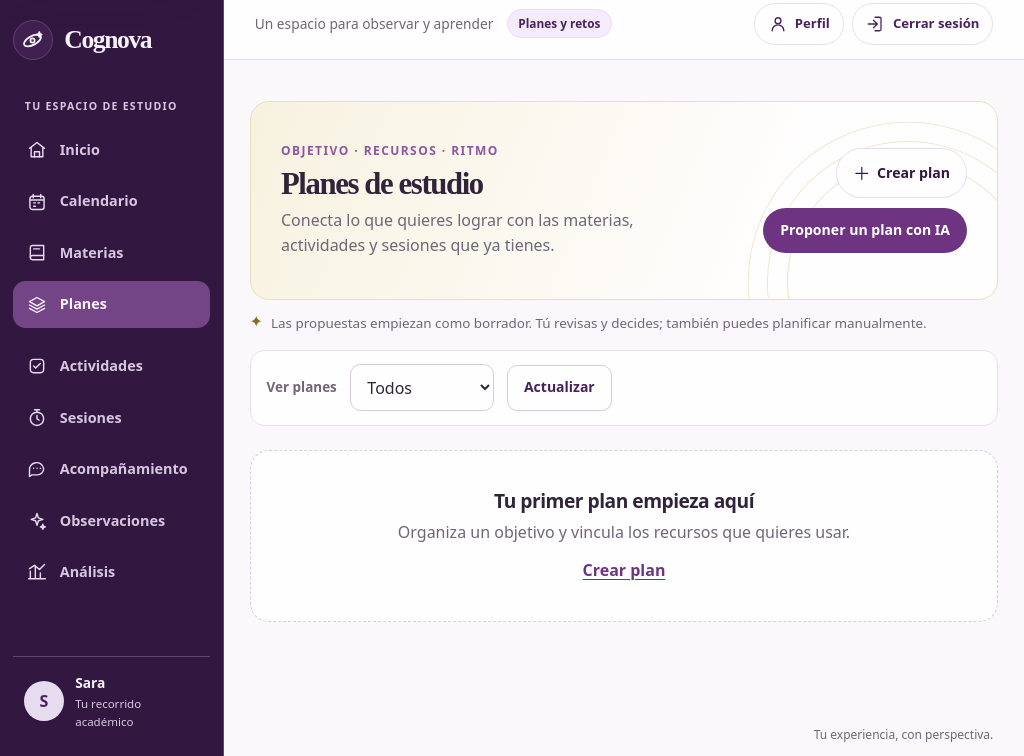
Test: study plans › creates a manual plan and opens its direct detail route
The width and height of the screenshot is (1024, 756).
Expected: the heading "Tu primer plan empieza aquí" is shown, [494,487,754,514]
Click the link to "/app/study-plans/new" at [902, 173], box [836,148,967,198]
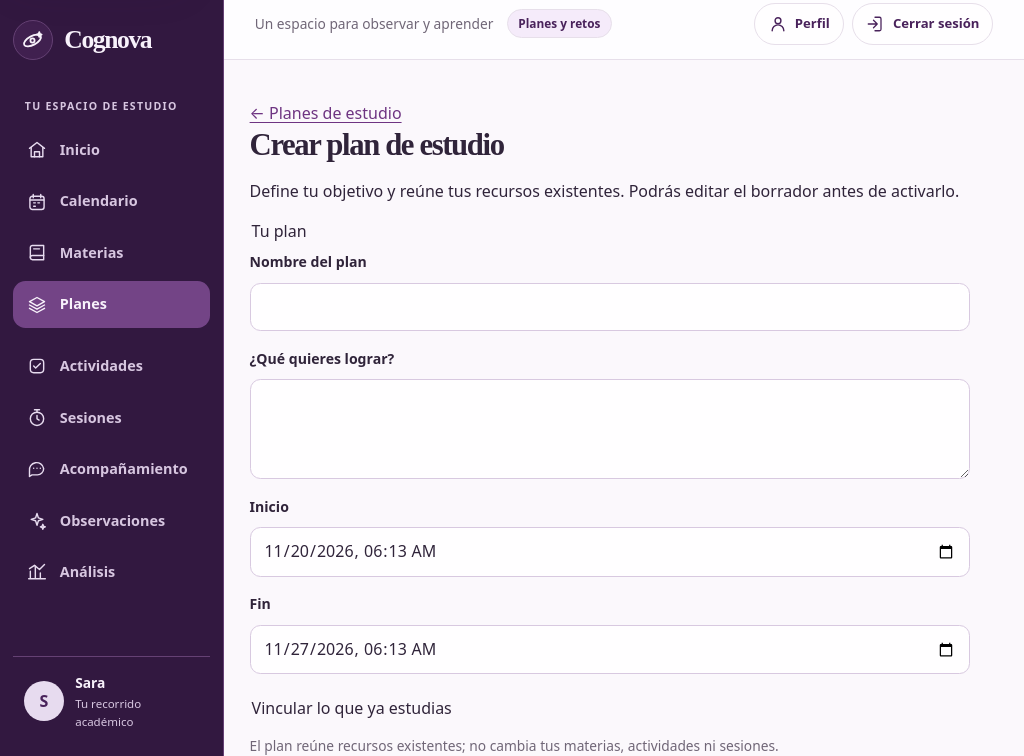
Result: the heading "Crear plan de estudio" is shown at [250,128,504,162]
Type "Plan de lectura" into the field labelled "Nombre del plan" at [610, 307], box [250,283,970,331]
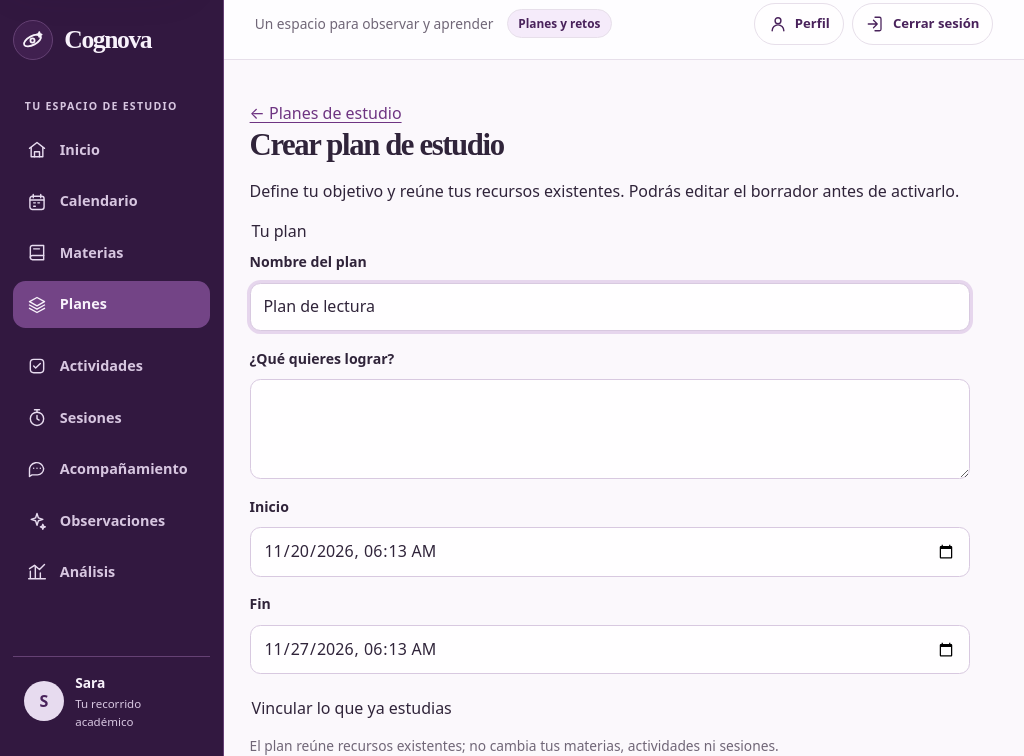
Type "Leer tres capítulos" into the text box labelled "¿Qué quieres lograr?" at [610, 429], box [250,379,970,479]
(page scrolled)
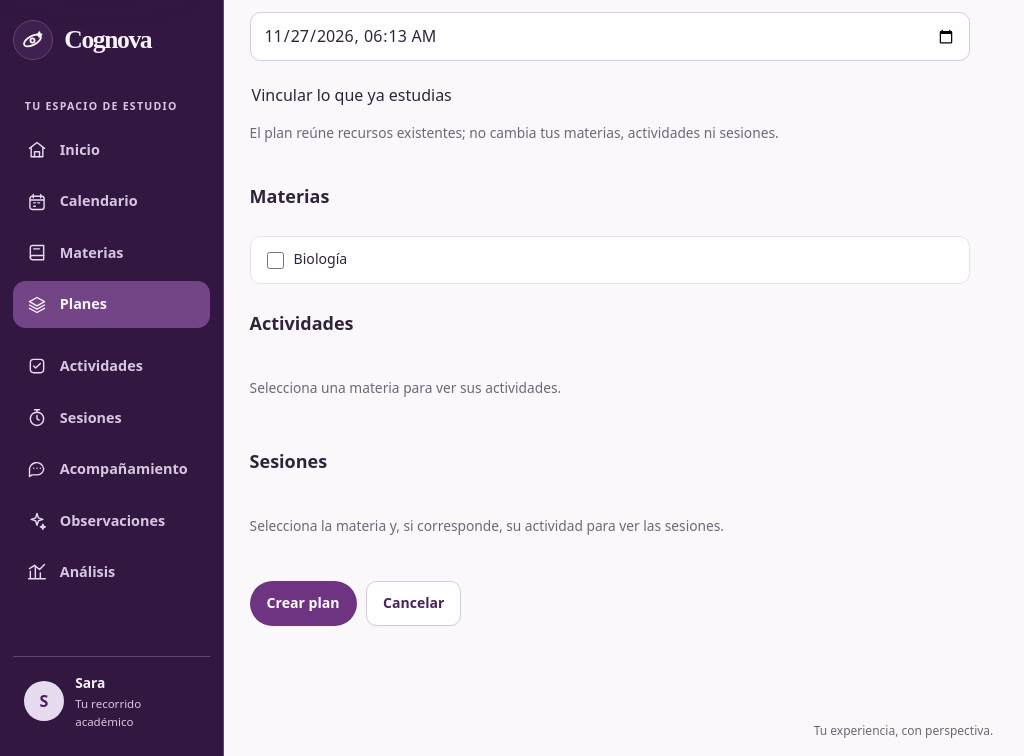
Click the button "Crear plan" at [303, 603], box [250,581,356,626]
(page scrolled)
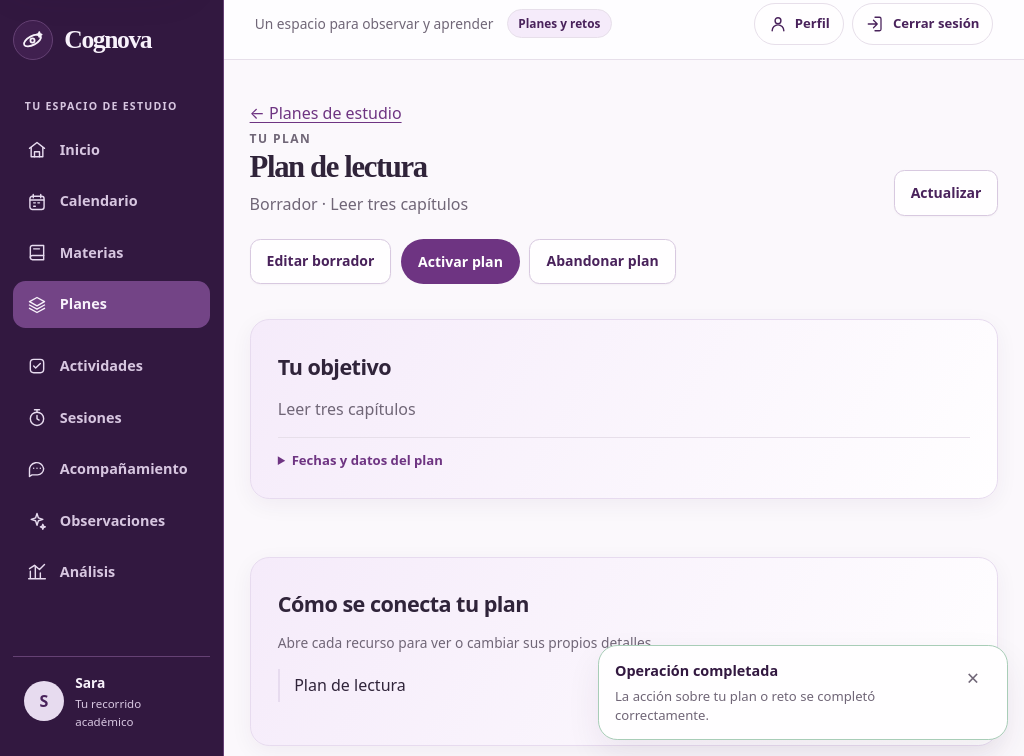
Result: the heading "Plan de lectura" is shown at [250,150,427,184]
